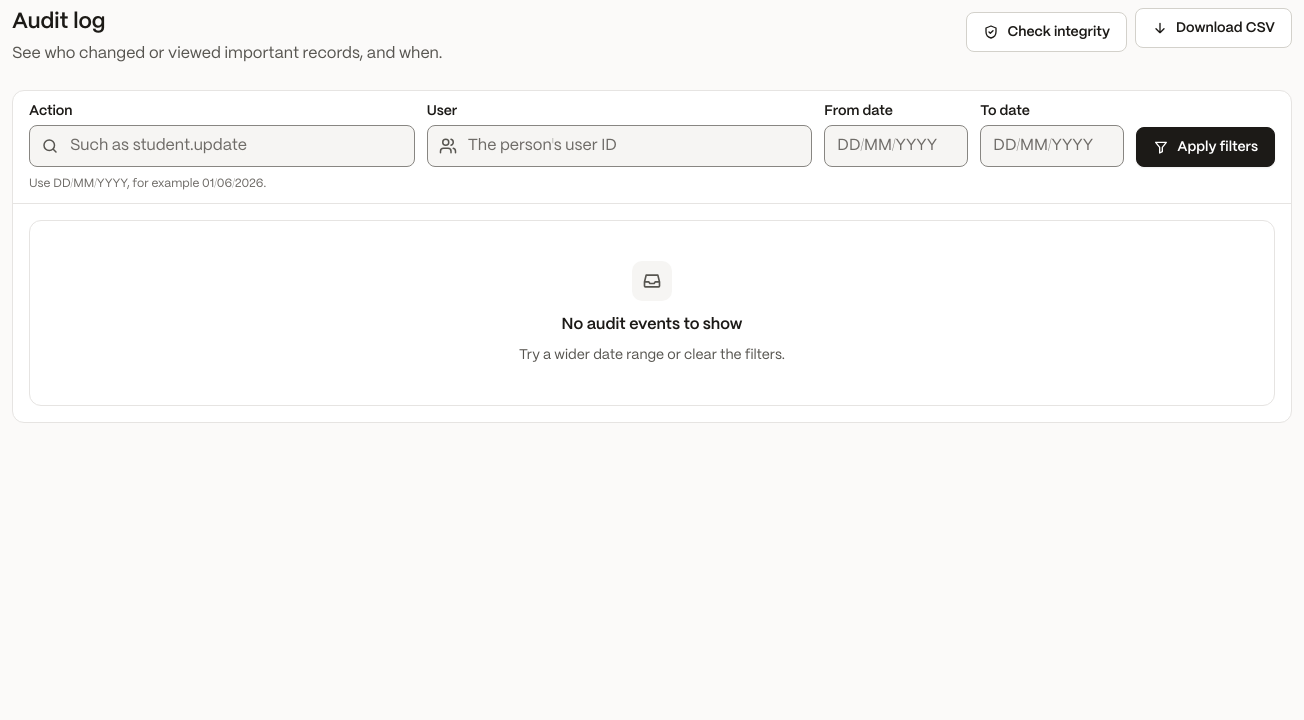
it: audit log CSV download (FR-AUD-005, US-1001, SEC-005) › says nothing was downloaded when the user cancels the confirmation
The image size is (1304, 720).
Click the button "Download CSV" at (1214, 28), box [1135,8,1292,48]
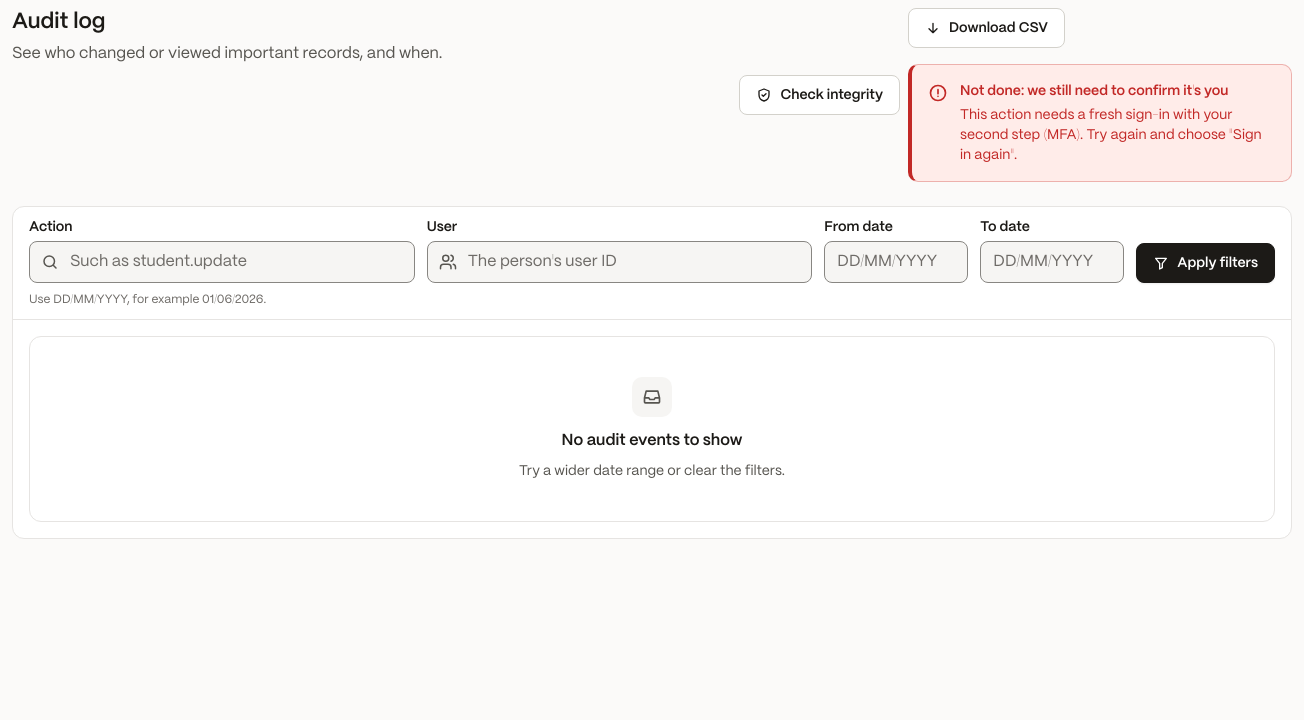
Now the text "Not done: we still need to confirm it's you" is shown, box [960,81,1275,101]
